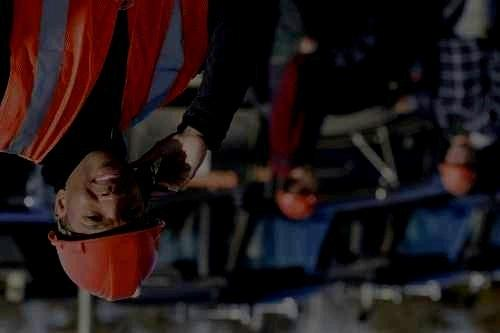helmet: (48, 150, 166, 302), (276, 165, 320, 220), (437, 141, 480, 196)
